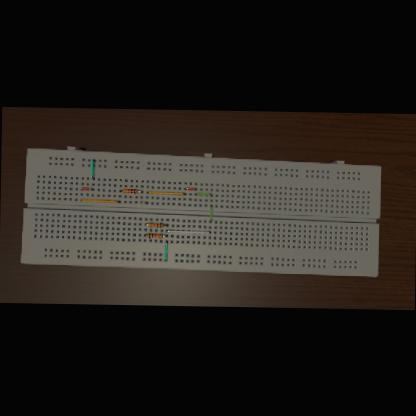breadboard: (20, 146, 382, 276)
resistor: (122, 188, 138, 193), (147, 233, 162, 238), (148, 223, 163, 227)
wire: (80, 199, 120, 203), (147, 192, 186, 196), (166, 230, 210, 233), (90, 159, 94, 179), (194, 192, 212, 196), (164, 240, 167, 260), (210, 206, 212, 222), (80, 188, 94, 190), (185, 188, 196, 190), (140, 202, 148, 204), (144, 234, 147, 236), (163, 235, 168, 236), (146, 224, 148, 226), (164, 225, 167, 226), (120, 190, 122, 191), (138, 192, 143, 192)
